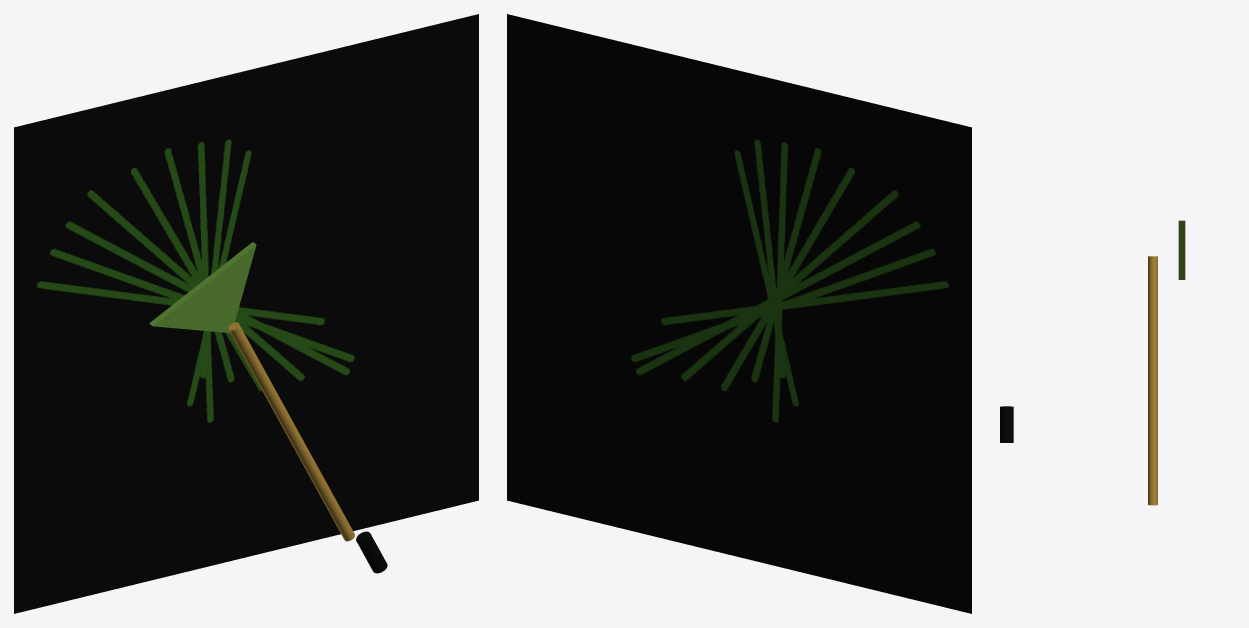
Rendered from Rake Puzzle.fbx.
3 views of the same model, side by side, from view 1: azimuth 30°, elevation 25°; view 2: azimuth 150°, elevation 25°; view 3: azimuth 270°, elevation 25° (orthographic). The views are drawn at different scales.
Visible parts, largest first — view 1: pPlane1, pCube1, pCylinder1, pCylinder2; view 2: pPlane1; view 3: pCylinder1, pCylinder2, pCube1.
Boxes of the visible parts, left/top/right/bottom form: pPlane1: left=14, top=14, right=478, bottom=613; pCube1: left=149, top=242, right=256, bottom=332; pCylinder1: left=228, top=322, right=354, bottom=541; pCylinder2: left=356, top=531, right=387, bottom=573; pPlane1: left=507, top=14, right=971, bottom=613; pCylinder1: left=1148, top=256, right=1157, bottom=505; pCylinder2: left=1000, top=406, right=1013, bottom=442; pCube1: left=1178, top=220, right=1185, bottom=279.
Size of the model in its own units: 6.22 by 6.22 by 3.24.
Materials: 4 (1 with a texture image).
